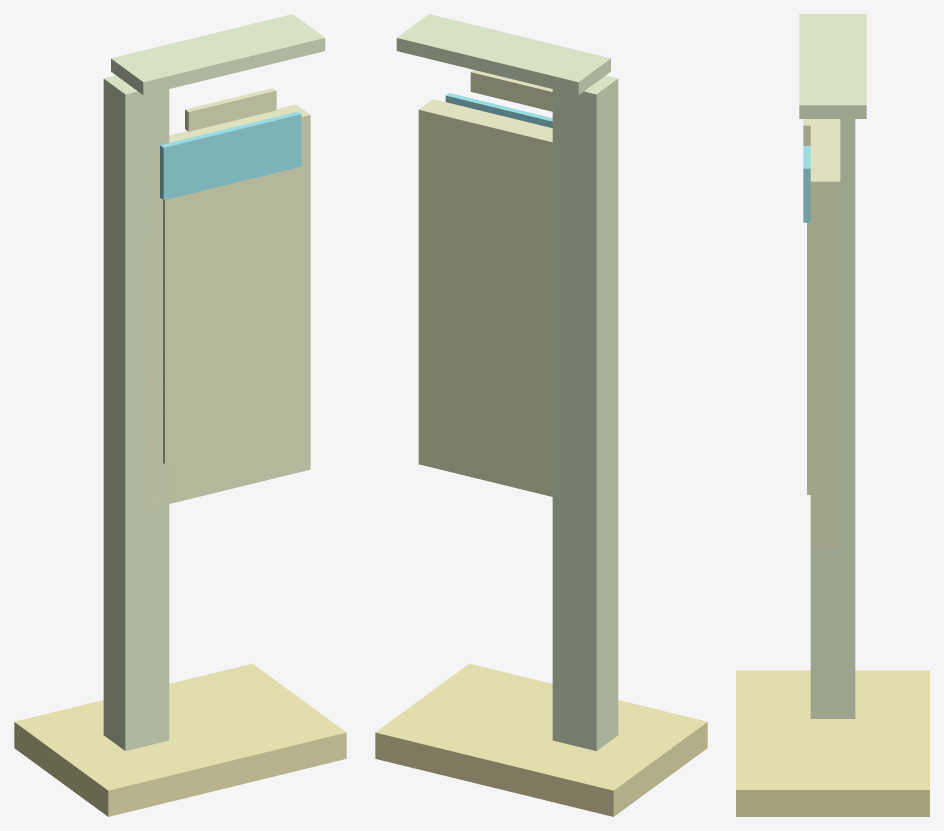
Rendered from furniture_passenger_info_kiosk.glb.
The picture shows the model from 3 angles, left to right: view 1: azimuth 30°, elevation 25°; view 2: azimuth 150°, elevation 25°; view 3: azimuth 270°, elevation 25°; orthographic projection. The views are drawn at different scales.
Parts seen in each view (by area): view 1: post, map_face, base, body, hood, route_header, route_strip; view 2: body, post, base, hood, route_strip, route_header; view 3: base, post, body, hood, map_face, route_header.
Boxes of the visible parts, <box> form: post: <box>103,75,169,750</box>; map_face: <box>163,168,296,463</box>; base: <box>14,663,346,816</box>; body: <box>147,104,310,509</box>; hood: <box>111,14,325,95</box>; route_header: <box>160,111,301,200</box>; route_strip: <box>185,88,276,131</box>; body: <box>418,99,552,496</box>; post: <box>552,75,618,750</box>; base: <box>375,663,707,816</box>; hood: <box>396,14,610,95</box>; route_strip: <box>470,70,552,111</box>; route_header: <box>445,93,552,127</box>; base: <box>736,670,929,816</box>; post: <box>810,119,855,718</box>; body: <box>810,119,840,546</box>; hood: <box>799,14,866,118</box>; map_face: <box>807,222,810,494</box>; route_header: <box>803,146,810,222</box>.
Size of the model in its own units: 0.79 by 2.12 by 0.52.
